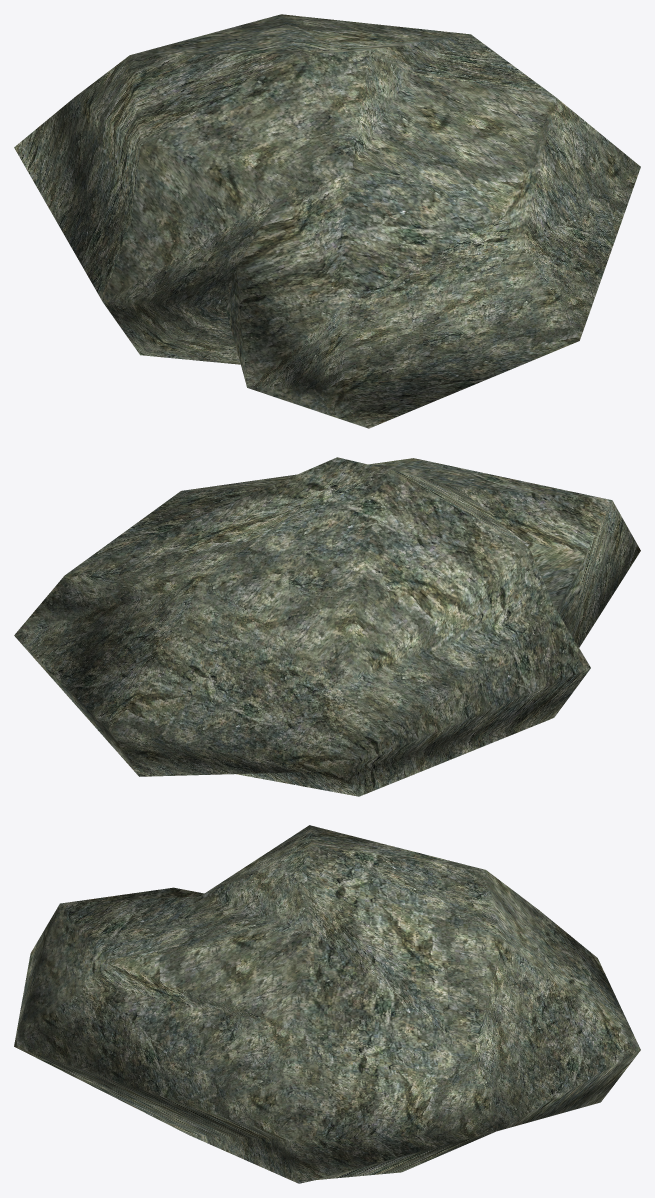
File: mtns_rock_grey_a4_l1.fbx
3 renders of one model, top to bottom at view 1: azimuth 30°, elevation 25°; view 2: azimuth 150°, elevation 25°; view 3: azimuth 270°, elevation 25°, orthographic. The views are drawn at different scales.
Parts seen in each view (by area): view 1: mesh_node; view 2: mesh_node; view 3: mesh_node.
Part boxes in pixels (left/top/right/bottom): mesh_node: left=14, top=14, right=640, bottom=428; mesh_node: left=14, top=457, right=640, bottom=796; mesh_node: left=14, top=825, right=640, bottom=1183.
Bounding box in the file's own units: 2.67 × 1.41 × 3.15.
Materials: 1 (1 with a texture image).
